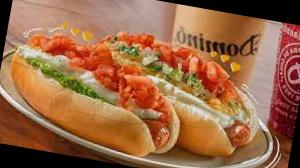Completos: (84, 16, 274, 162), (0, 22, 194, 164)
